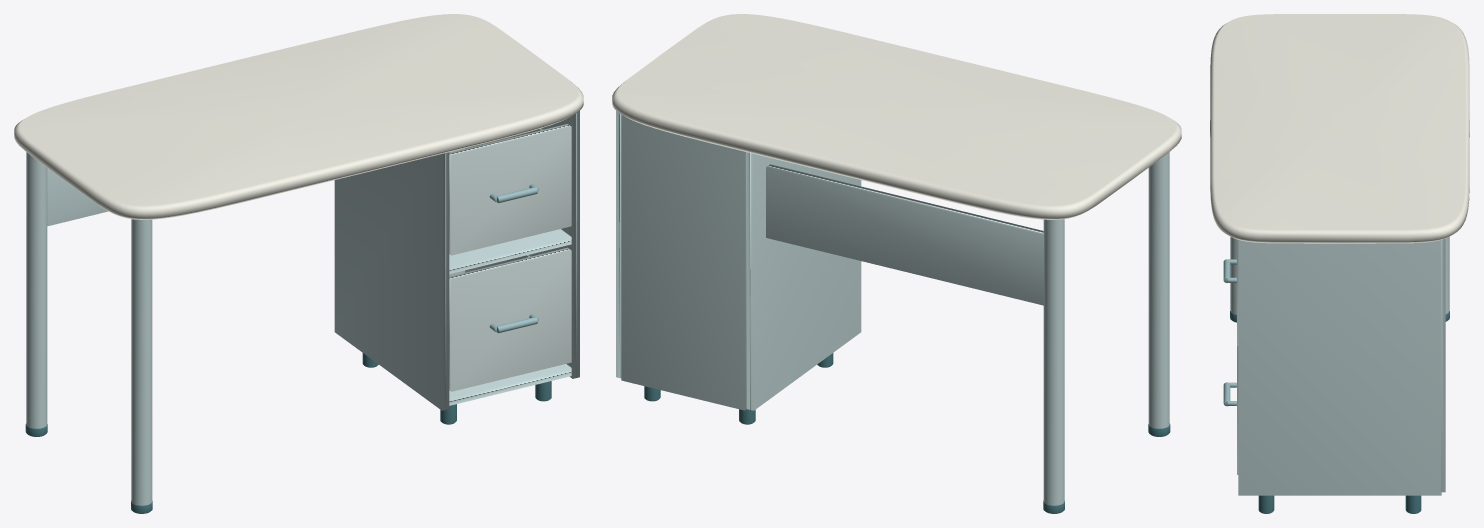
The model's file is doctor_desk.glb.
3 renders of one model, left to right at view 1: azimuth 30°, elevation 25°; view 2: azimuth 150°, elevation 25°; view 3: azimuth 270°, elevation 25°, orthographic. The views are drawn at different scales.
Visible parts, largest first — view 1: Desk_Worktop, Cabinet_Left, Lower_Front, Upper_Front, Left_Leg_1, Left_Leg_0, Cabinet_Right, Cabinet_Separator, Desk_Rear_Brace, Cabinet_Bottom; view 2: Desk_Worktop, Cabinet_Back, Desk_Rear_Brace, Cabinet_Left, Left_Leg_0, Left_Leg_1, Cabinet_Right; view 3: Desk_Worktop, Cabinet_Right, Cabinet_Back, Left_Leg_1, Left_Leg_0, Cabinet_Foot_1, Cabinet_Foot_3.
Boxes of the visible parts, x1,y1,x2,y2 form: Desk_Worktop: (14, 14, 583, 219); Cabinet_Left: (334, 152, 449, 410); Lower_Front: (449, 247, 571, 391); Upper_Front: (449, 124, 571, 255); Left_Leg_1: (131, 219, 152, 505); Left_Leg_0: (26, 152, 47, 428); Cabinet_Right: (530, 111, 579, 378); Cabinet_Separator: (449, 229, 571, 273); Desk_Rear_Brace: (47, 168, 108, 226); Cabinet_Bottom: (449, 364, 571, 405); Desk_Worktop: (612, 14, 1181, 219); Cabinet_Back: (621, 114, 746, 410); Desk_Rear_Brace: (766, 164, 1043, 305); Cabinet_Left: (746, 152, 861, 410); Left_Leg_0: (1043, 219, 1064, 505); Left_Leg_1: (1148, 152, 1169, 428); Cabinet_Right: (616, 111, 621, 378); Desk_Worktop: (1210, 14, 1469, 243); Cabinet_Right: (1238, 240, 1441, 495); Cabinet_Back: (1441, 238, 1445, 492); Left_Leg_1: (1230, 236, 1236, 314); Left_Leg_0: (1445, 236, 1449, 313); Cabinet_Foot_1: (1405, 495, 1421, 513); Cabinet_Foot_3: (1258, 495, 1274, 513).
Bounding box in the file's own units: 1.2 × 0.75 × 0.6.
